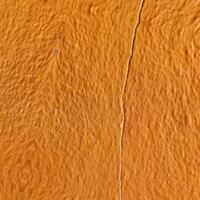crack: (107, 1, 171, 145)
